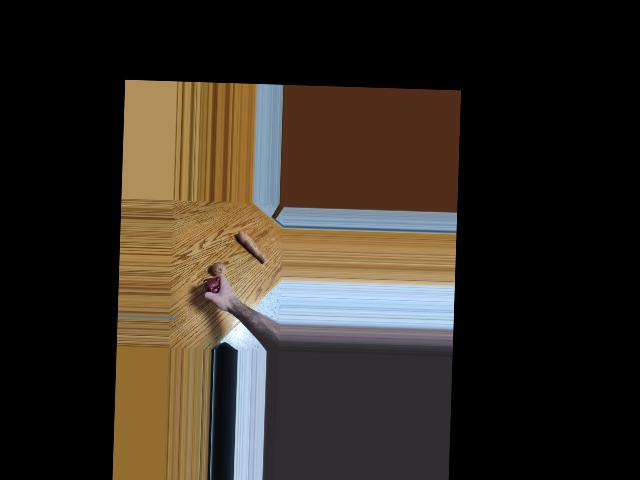onion: (210, 260, 226, 279)
